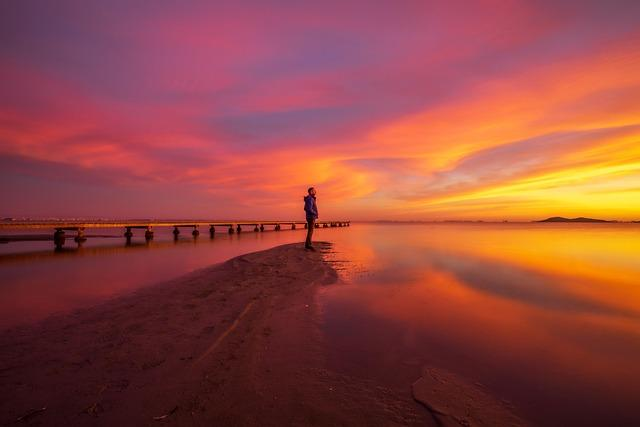Non_Gorille: (58, 43, 520, 341)
